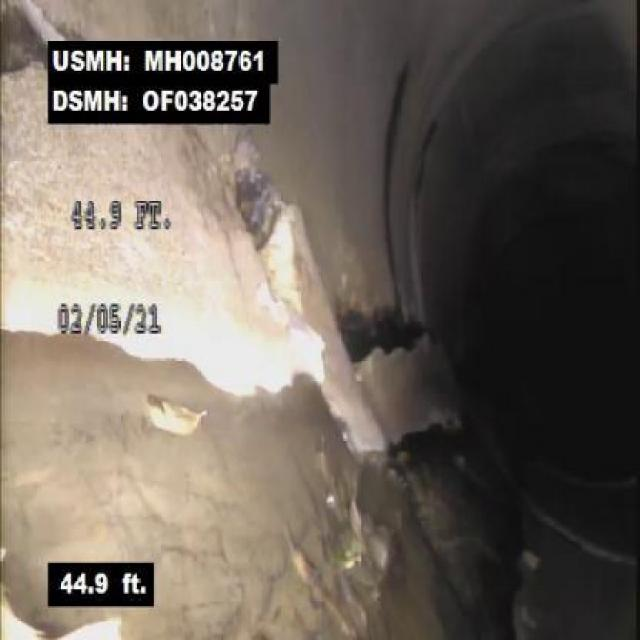Buckling: (251, 177, 357, 461), (358, 294, 464, 448)
